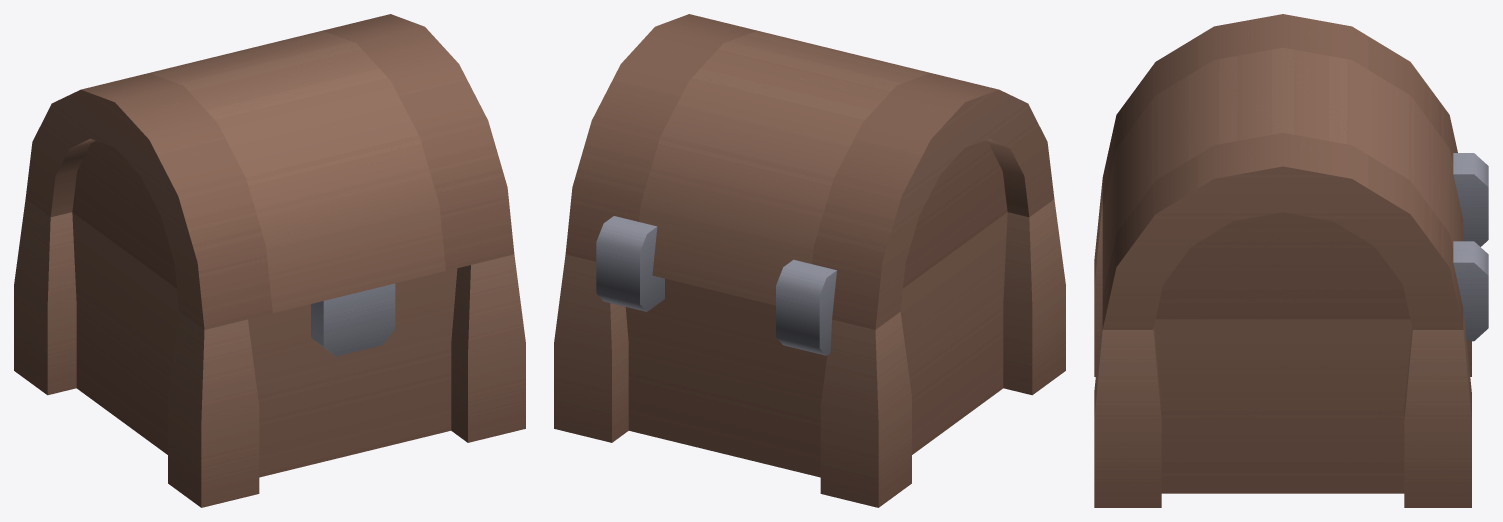
The model's file is chest.glb.
3 views of the same model, side by side, from view 1: azimuth 30°, elevation 25°; view 2: azimuth 150°, elevation 25°; view 3: azimuth 270°, elevation 25° (orthographic).
Visible parts, largest first — view 1: lid, chest; view 2: lid, chest; view 3: lid, chest.
Boxes of the visible parts, x1,y1,x2,y2 form: lid: [25, 14, 514, 356]; chest: [14, 199, 525, 507]; lid: [565, 14, 1054, 329]; chest: [554, 199, 1065, 507]; lid: [1102, 14, 1463, 329]; chest: [1094, 153, 1488, 507].
Size of the model in its own units: 0.6901 by 0.6816 by 0.7209.
1 material, 1 textured.
